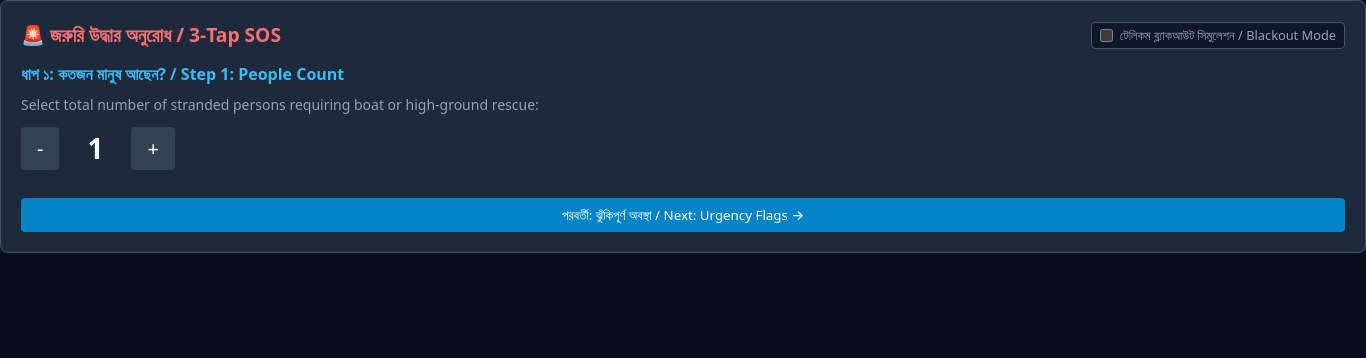
Test: ThreeTapSos Component › generates an ASCII Disaster Packet and displays copy/SMS buttons upon submission
# Move to step 2 then step 3
Click the button "পরবর্তী: ঝুঁকিপূর্ণ অবস্থা / Next: Urgency Flags →" at (683, 215), box [21, 198, 1345, 232]
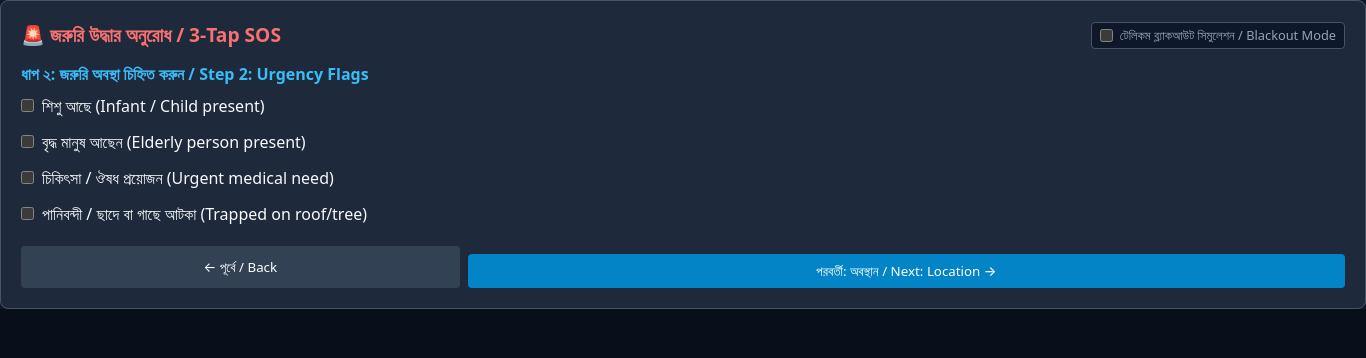
Click the button "পরবর্তী: অবস্থান / Next: Location →" at (906, 271), box [468, 254, 1345, 288]
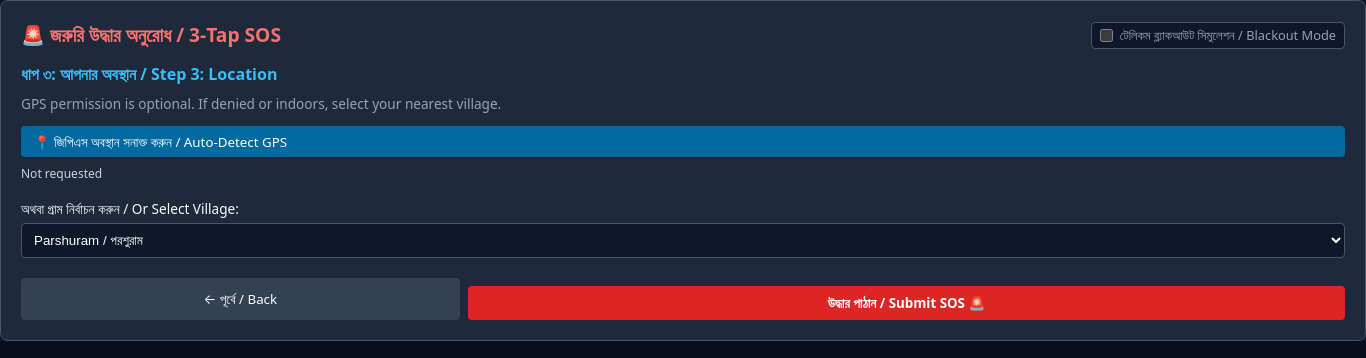
# Click submit
Click the button "উদ্ধার পাঠান / Submit SOS 🚨" at (906, 303), box [468, 286, 1345, 320]
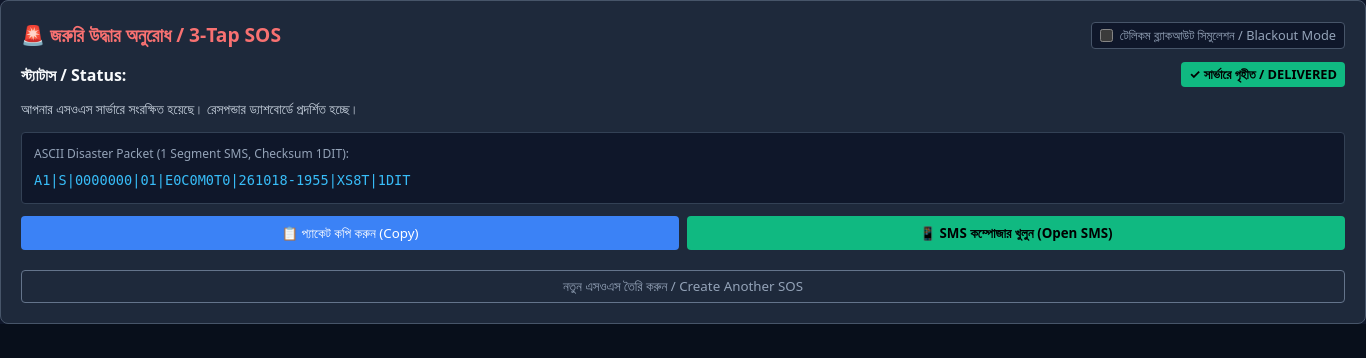
Now the text "ASCII Disaster Packet (1 Segment SMS, Checksum 1DIT):" is shown, box [34, 145, 349, 162]
Now the button "📋 প্যাকেট কপি করুন (Copy)" is shown, box [21, 216, 679, 250]
Now the button "📱 SMS কম্পোজার খুলুন (Open SMS)" is shown, box [687, 216, 1345, 250]
